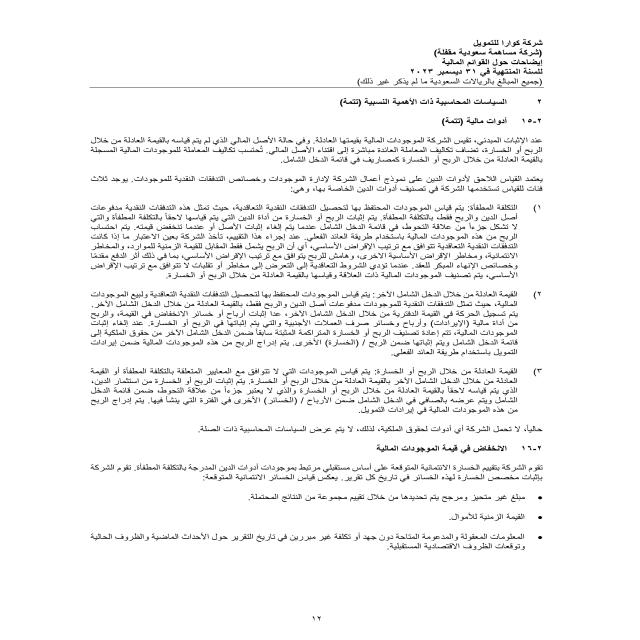notes: (434, 57, 576, 69)
text: (54, 90, 550, 566)
